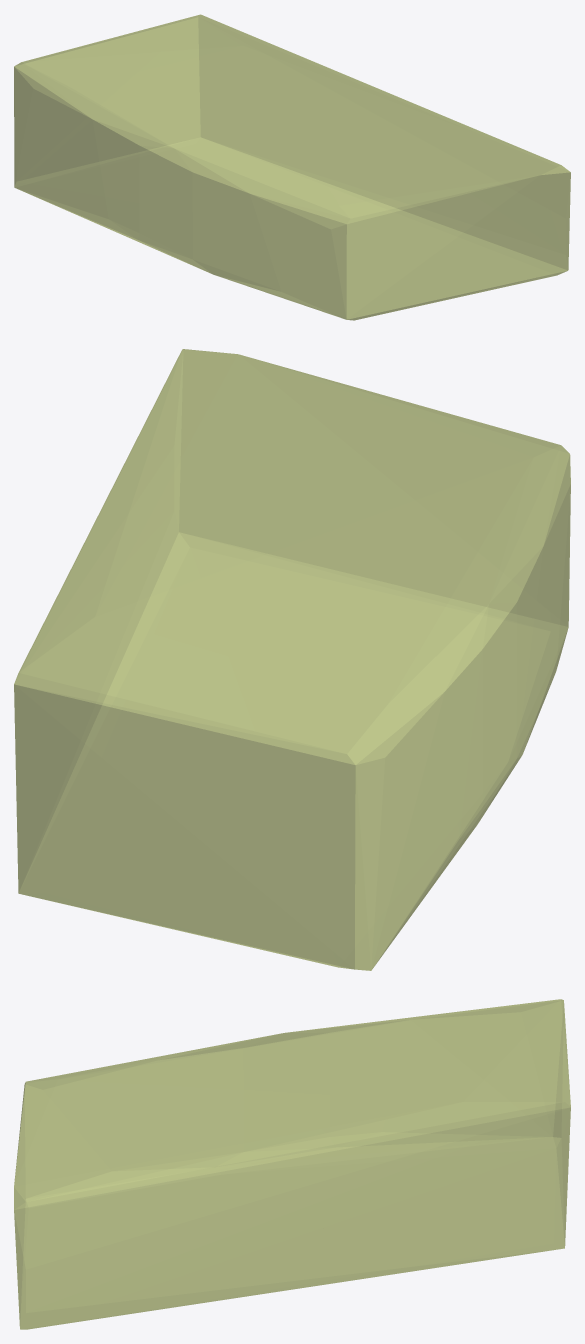
The picture shows the model from 3 angles, top to bottom: view 1: azimuth 30°, elevation 25°; view 2: azimuth 150°, elevation 25°; view 3: azimuth 270°, elevation 25°; orthographic projection. The views are drawn at different scales.
Visible parts, largest first — view 1: Shape_IndexedFaceSet.002_Shape_IndexedFaceSet.5537; view 2: Shape_IndexedFaceSet.002_Shape_IndexedFaceSet.5537; view 3: Shape_IndexedFaceSet.002_Shape_IndexedFaceSet.5537.
Boxes of the visible parts, bbox=[...] form: Shape_IndexedFaceSet.002_Shape_IndexedFaceSet.5537: bbox=[14, 14, 570, 320]; Shape_IndexedFaceSet.002_Shape_IndexedFaceSet.5537: bbox=[14, 349, 570, 970]; Shape_IndexedFaceSet.002_Shape_IndexedFaceSet.5537: bbox=[14, 999, 570, 1329].
Bounding box in the file's own units: 0.2909 × 0.1071 × 0.3559.
